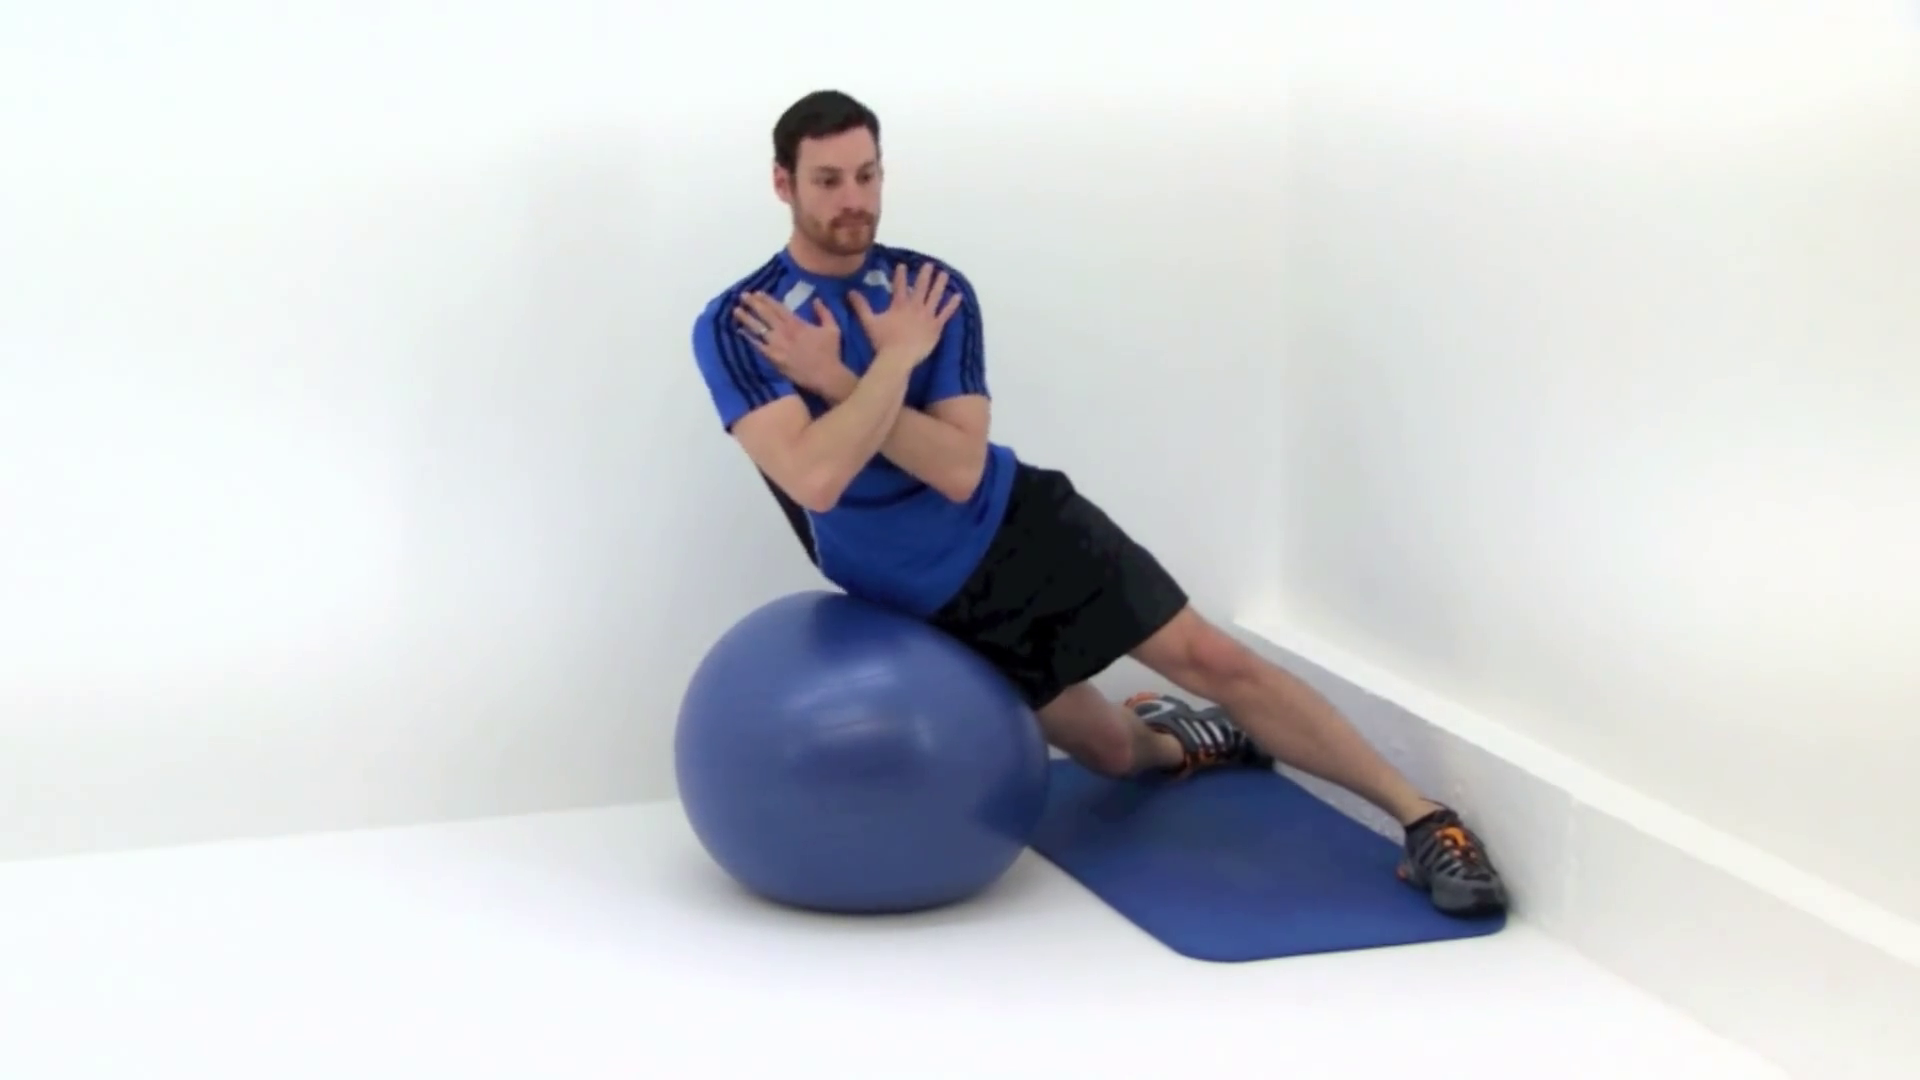yogaball: (654, 592, 1069, 943)
